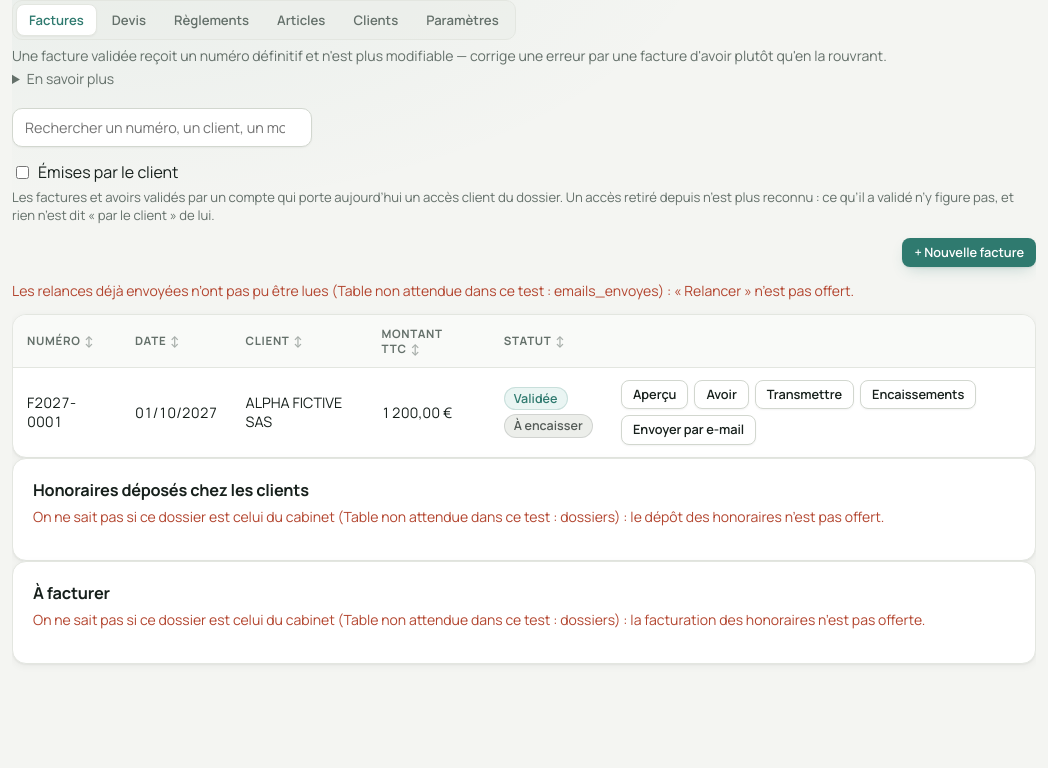
Test: Clients dans l’onglet Factures — cabinet › « Clients » montre la liste du dossier, « Factures » la rend
Expected: the text "F2027-0001" is shown, x1=27 y1=393 x2=76 y2=431
Click the tab "Clients" at coordinates (376, 20), box x1=340 y1=4 x2=411 y2=36
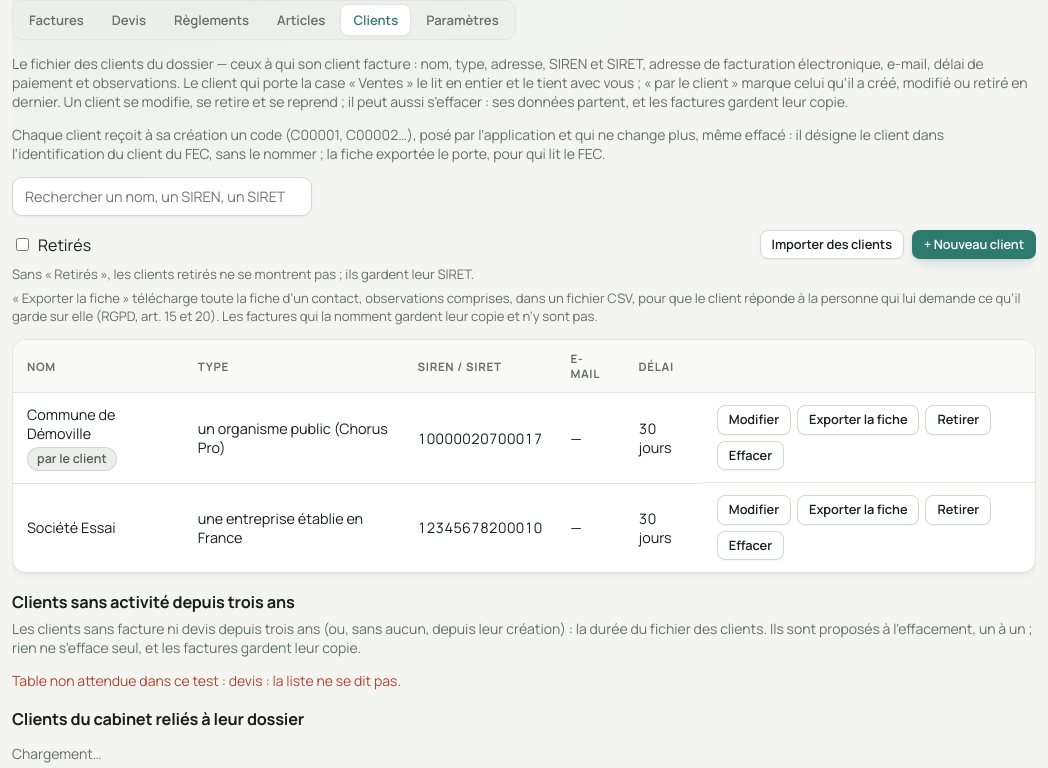
Expected: the number of rows is 3, x1=13 y1=340 x2=1035 y2=393; x1=13 y1=393 x2=1035 y2=483; x1=13 y1=483 x2=1035 y2=572
Expected: the text "F2027-0001" is gone
Expected: the button "+ Nouvelle facture" is gone
Click the tab "Factures" at coordinates (56, 20), box x1=16 y1=4 x2=97 y2=36
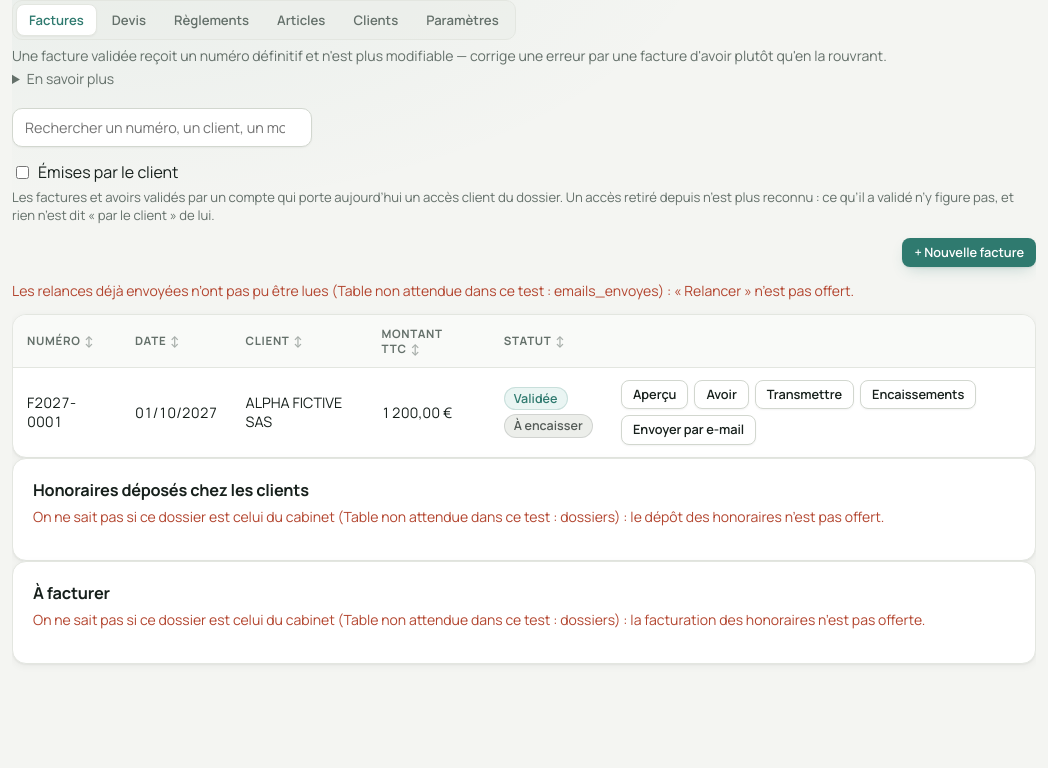
Expected: the text "F2027-0001" is shown, x1=27 y1=393 x2=76 y2=431
